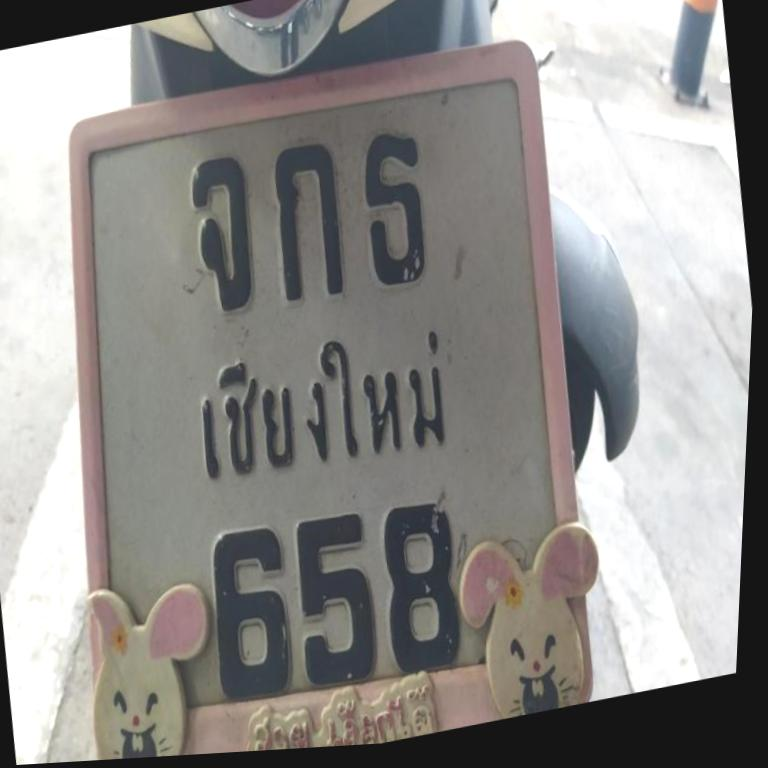license plate: (20, 12, 635, 765)
